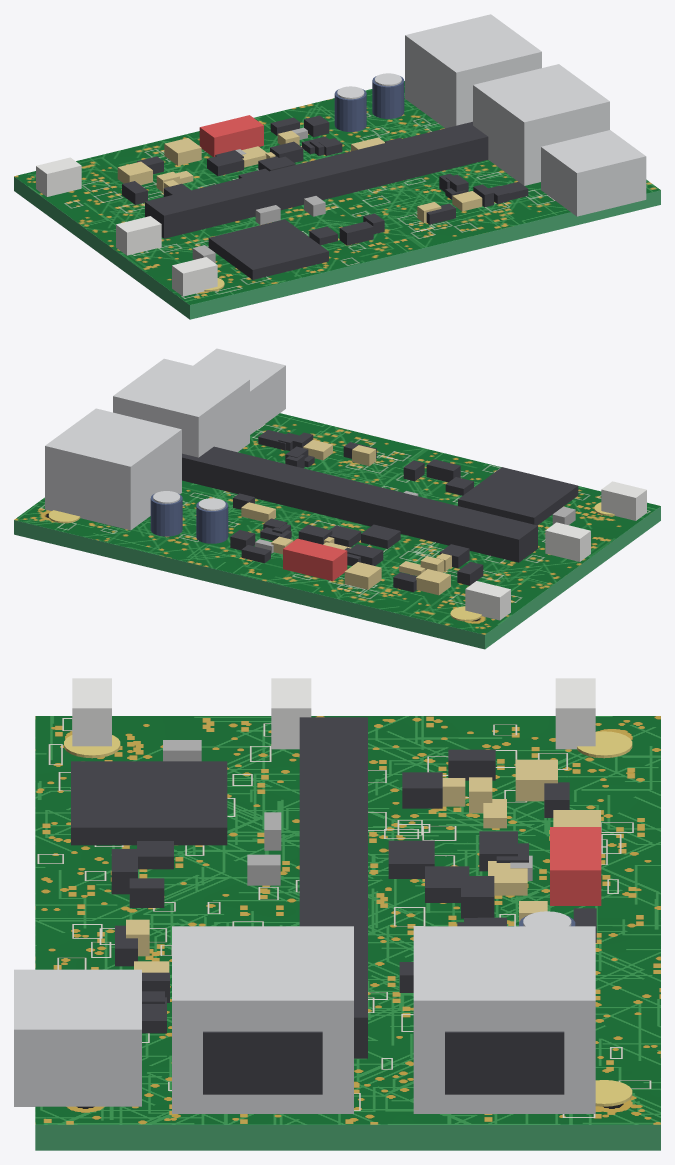
3 renders of one model, top to bottom at view 1: azimuth 30°, elevation 25°; view 2: azimuth 150°, elevation 25°; view 3: azimuth 270°, elevation 25°, orthographic. The views are drawn at different scales.
Parts seen in each view (by area): view 1: pcb_top, silver, ic, pcb_body, white, tan, cap, red, res; view 2: pcb_top, ic, silver, pcb_body, white, tan, cap, red, gold, res; view 3: pcb_top, silver, ic, pcb_body, white, tan, red, res, gold.
Part boxes in pixels (<box>): pcb_top: <box>14,81,660,304</box>; silver: <box>337,14,646,216</box>; ic: <box>122,115,528,279</box>; pcb_body: <box>14,176,660,319</box>; white: <box>36,157,217,296</box>; tan: <box>117,130,482,222</box>; cap: <box>334,76,404,131</box>; red: <box>199,115,263,156</box>; res: <box>192,127,325,263</box>; pcb_top: <box>14,413,660,634</box>; ic: <box>182,430,578,592</box>; silver: <box>45,348,285,530</box>; pcb_body: <box>14,506,660,649</box>; white: <box>465,481,646,620</box>; tan: <box>241,440,451,595</box>; cap: <box>150,493,228,543</box>; red: <box>283,538,347,581</box>; gold: <box>48,502,614,621</box>; res: <box>255,491,575,553</box>; pcb_top: <box>35,716,660,1124</box>; silver: <box>14,911,595,1113</box>; ic: <box>71,717,596,1094</box>; pcb_body: <box>35,1124,660,1150</box>; white: <box>72,678,595,749</box>; tan: <box>126,759,600,972</box>; red: <box>550,827,601,905</box>; res: <box>163,740,532,885</box>; gold: <box>64,731,632,1106</box>.
Bounding box in the file's own units: 3.4 × 0.54 × 2.27.
Materials: 10 (1 with a texture image).
